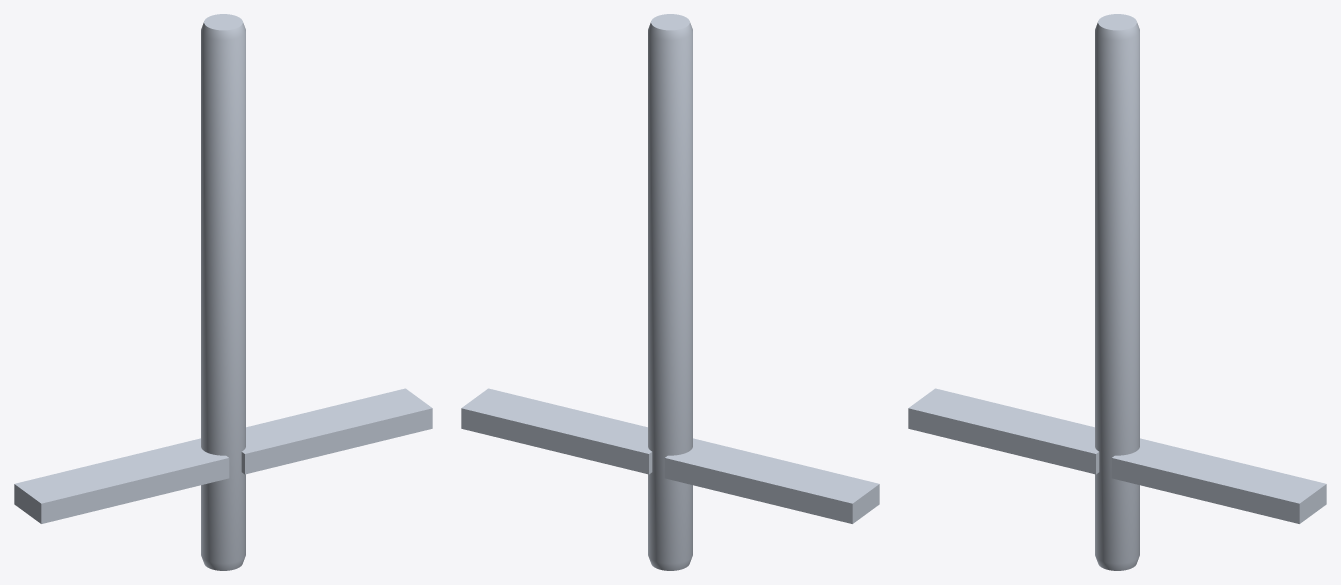
Rendered from deab34de-d127-46db-baca-da1cbeea75c0.glb.
3 views of the same model, side by side, from view 1: azimuth 30°, elevation 25°; view 2: azimuth 150°, elevation 25°; view 3: azimuth 330°, elevation 25° (orthographic).
Parts seen in each view (by area): view 1: BEV-MIX-01_Shaft, BEV-MIX-01_Blade.001, BEV-MIX-01_Blade; view 2: BEV-MIX-01_Shaft, BEV-MIX-01_Blade.001, BEV-MIX-01_Blade; view 3: BEV-MIX-01_Shaft, BEV-MIX-01_Blade, BEV-MIX-01_Blade.001.
Part boxes in pixels (x1,y1,x2,y2): BEV-MIX-01_Shaft: [201, 14, 245, 570]; BEV-MIX-01_Blade.001: [14, 438, 229, 523]; BEV-MIX-01_Blade: [241, 388, 432, 474]; BEV-MIX-01_Shaft: [648, 14, 692, 570]; BEV-MIX-01_Blade.001: [664, 438, 879, 523]; BEV-MIX-01_Blade: [461, 388, 652, 474]; BEV-MIX-01_Shaft: [1095, 14, 1139, 570]; BEV-MIX-01_Blade: [1111, 438, 1326, 523]; BEV-MIX-01_Blade.001: [908, 388, 1099, 474].
Bounding box in the file's own units: 0.5 × 0.66 × 0.06.
